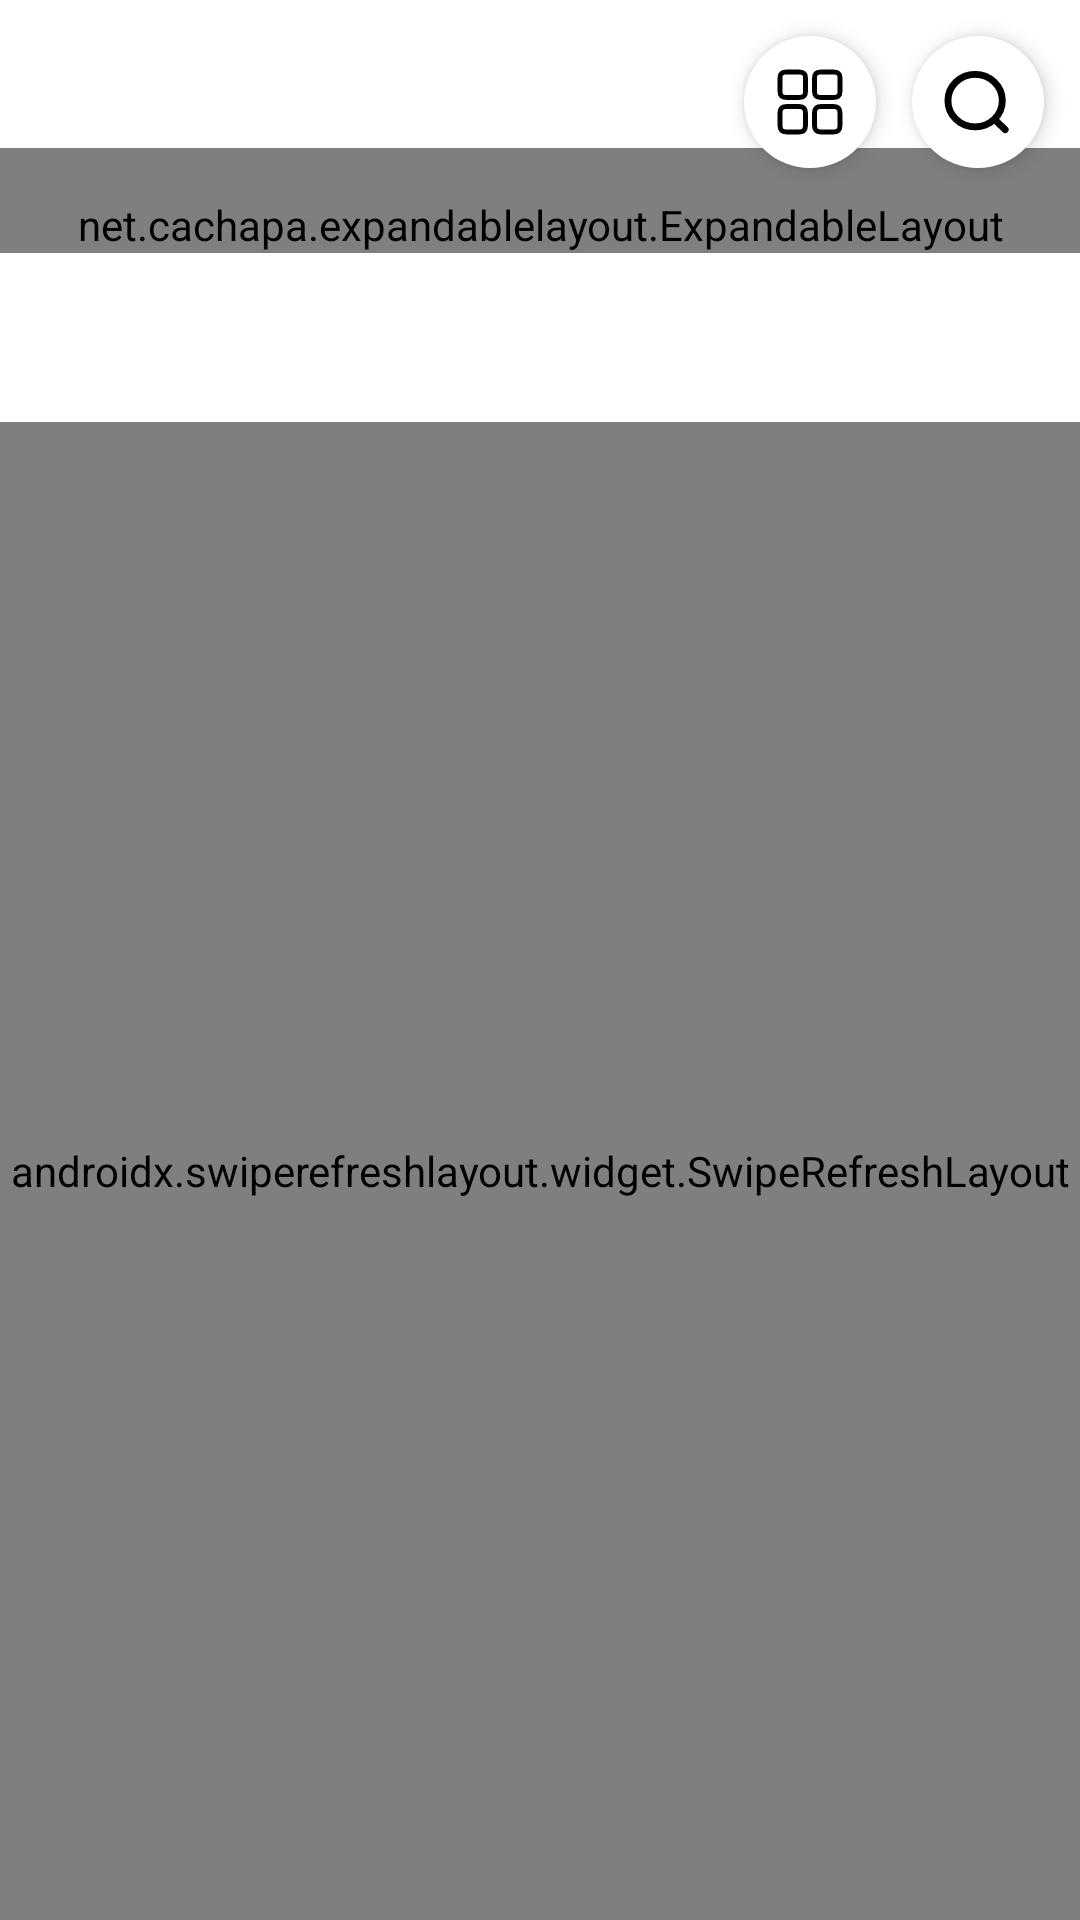

Icon bounding boxes for this 1080w x 1920h phone screenshot, format (x1, y1, x2, y2):
menu: (777, 62, 876, 135)
search: (912, 50, 1044, 168)
